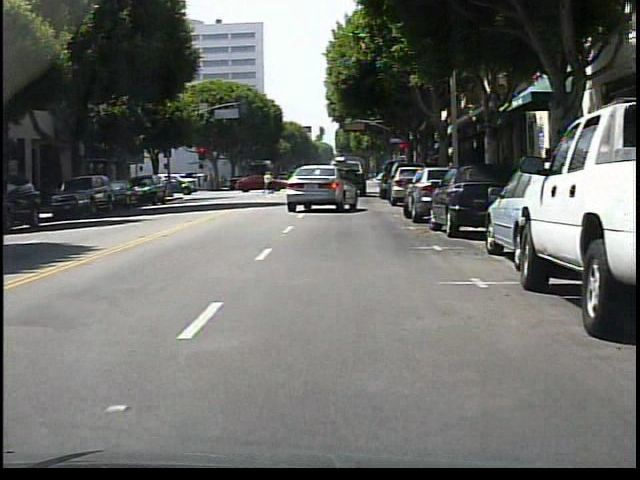person: (537, 147, 562, 204), (286, 167, 297, 194), (263, 170, 275, 194), (263, 172, 269, 188)
